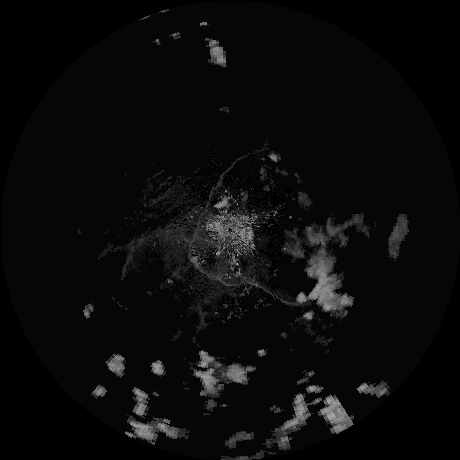frontgust: (210, 155, 244, 195), (187, 214, 207, 275)
